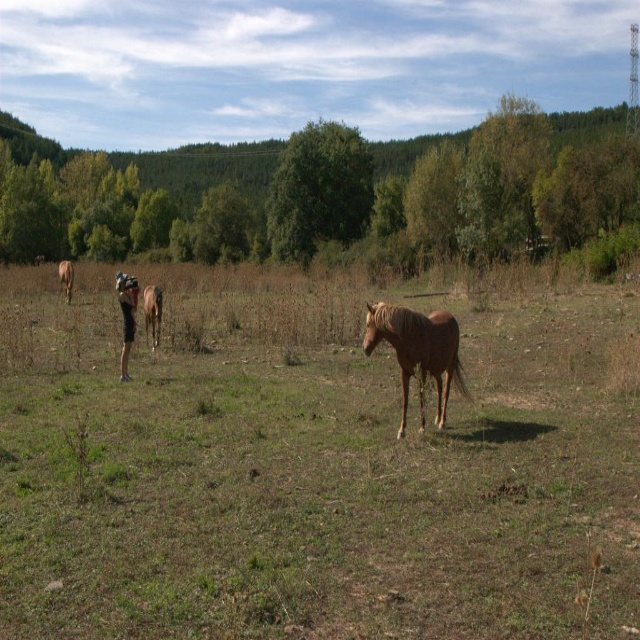Horse: (362, 300, 476, 439), (141, 284, 164, 351), (56, 260, 76, 304)
